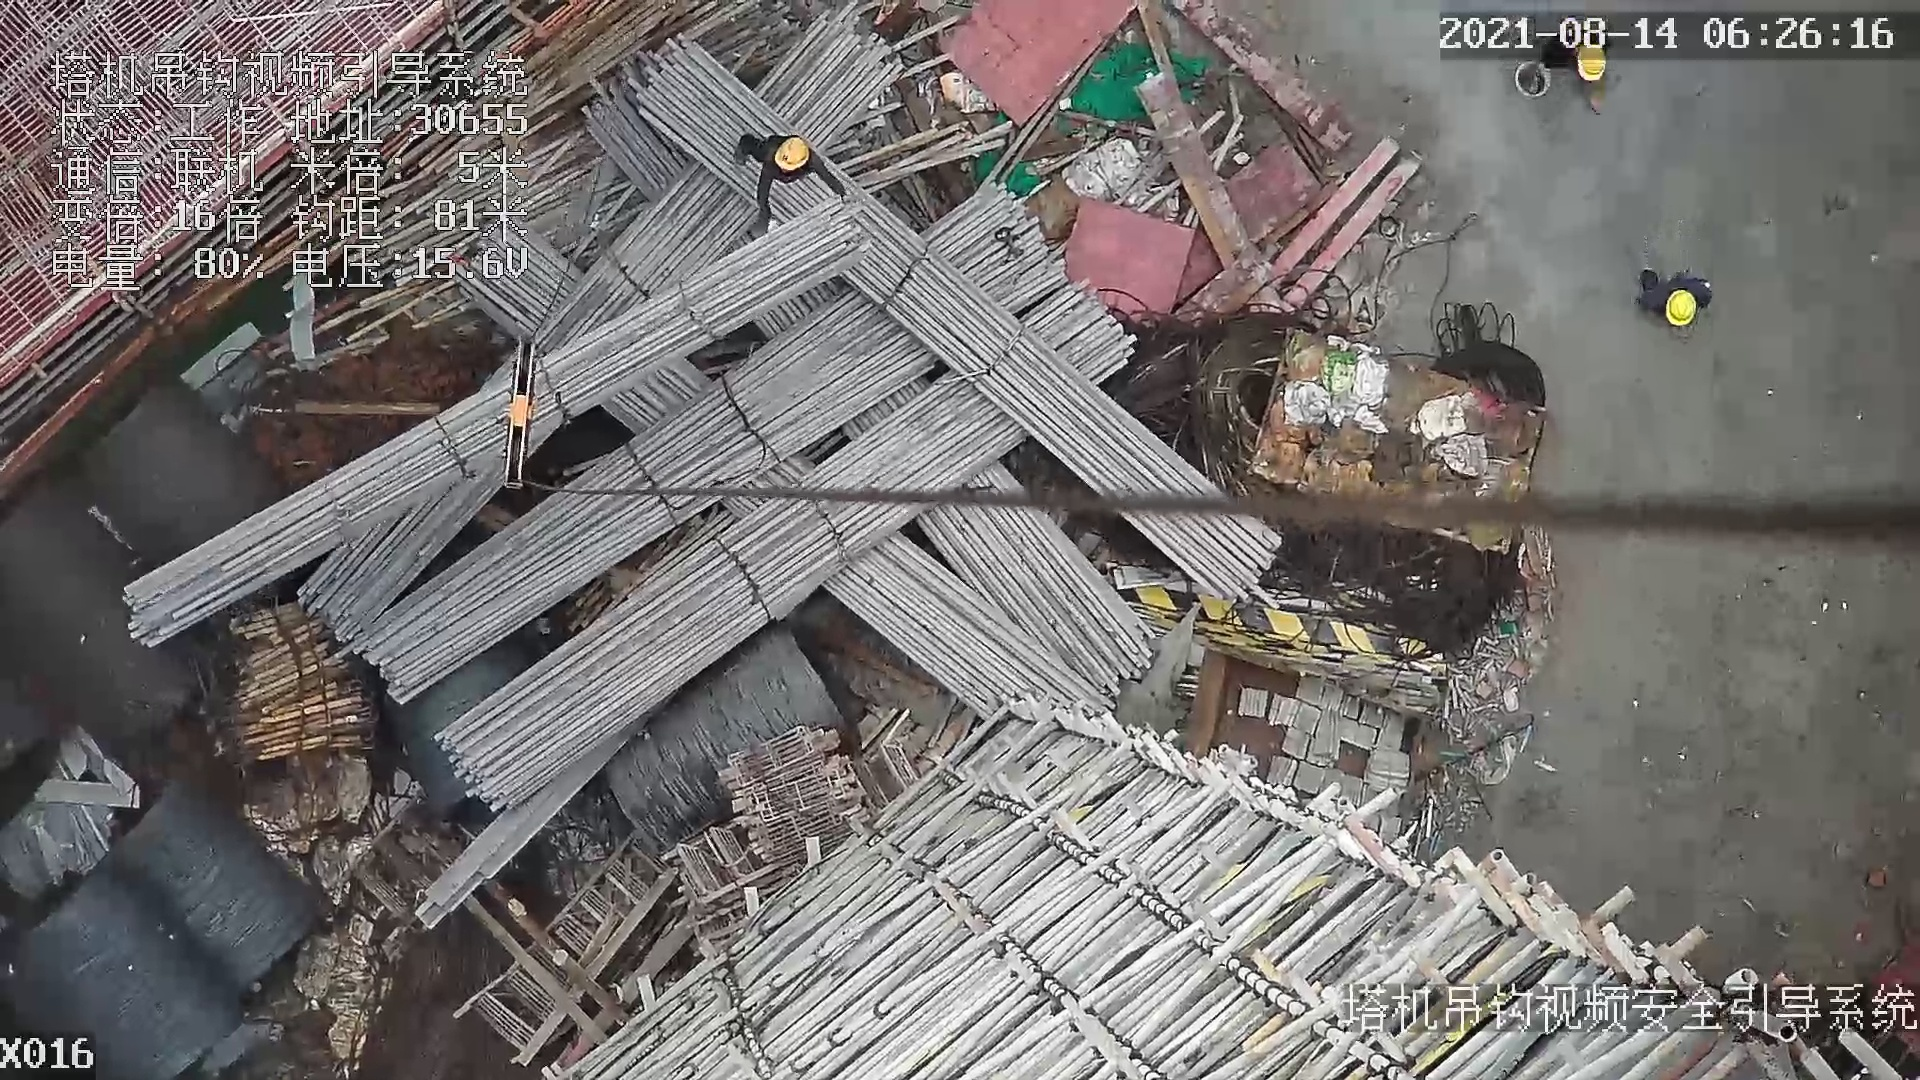helmet: (1659, 287, 1701, 328), (774, 137, 812, 179), (1573, 42, 1612, 82)
hook: (491, 328, 545, 487)
person: (741, 133, 846, 228), (1609, 255, 1718, 333)
